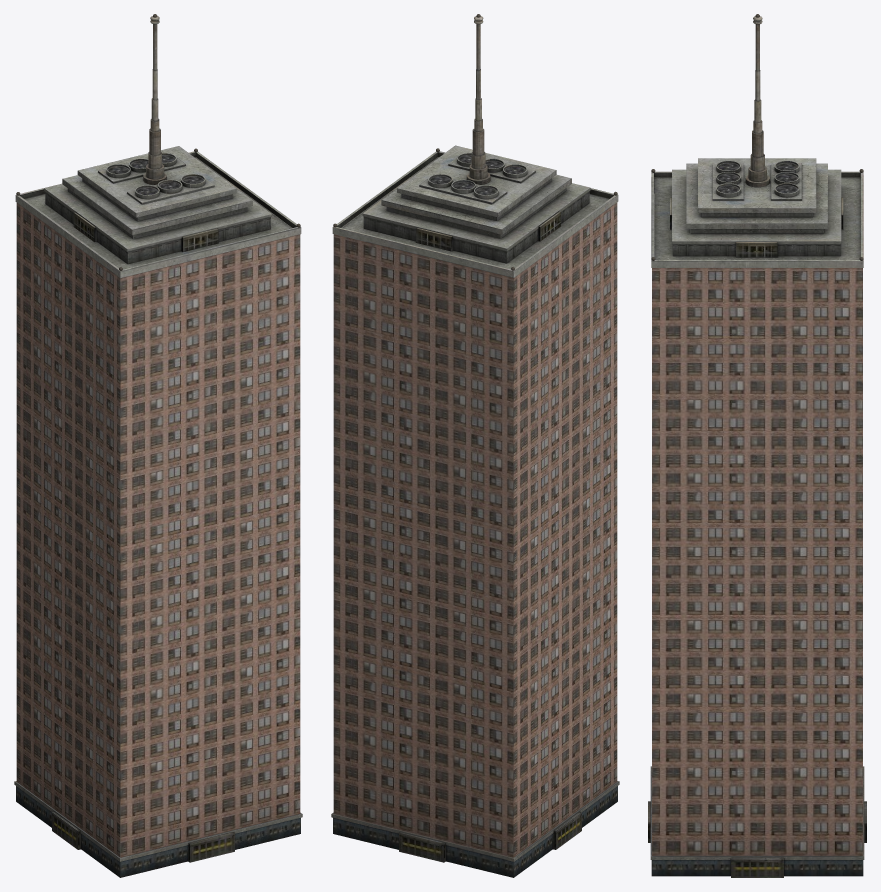
The model's file is Rakennus1.fbx.
3 views of the same model, side by side, from view 1: azimuth 30°, elevation 25°; view 2: azimuth 150°, elevation 25°; view 3: azimuth 270°, elevation 25° (orthographic).
Visible parts, largest first — view 1: Rakennus_1; view 2: Rakennus_1; view 3: Rakennus_1.
Boxes of the visible parts, x1,y1,x2,y2 form: Rakennus_1: (14,14,302,877); Rakennus_1: (331,14,619,877); Rakennus_1: (648,14,866,877).
Size of the model in its own units: 3732 by 15345 by 3732.
